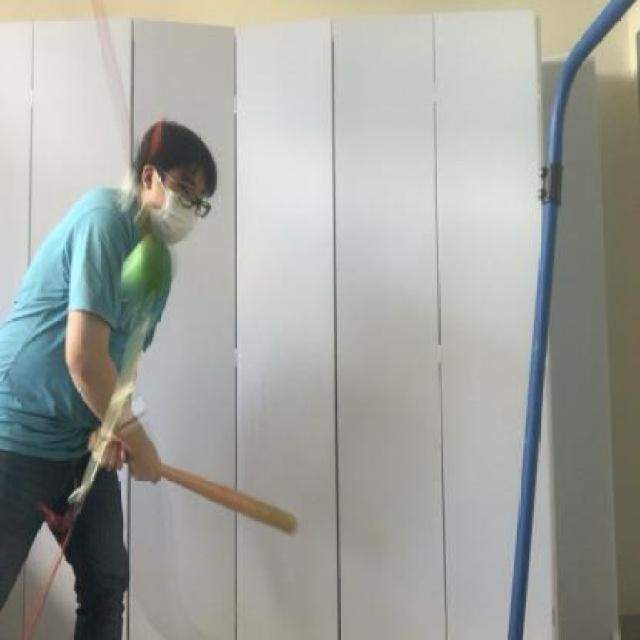baseball: (106, 229, 159, 306)
